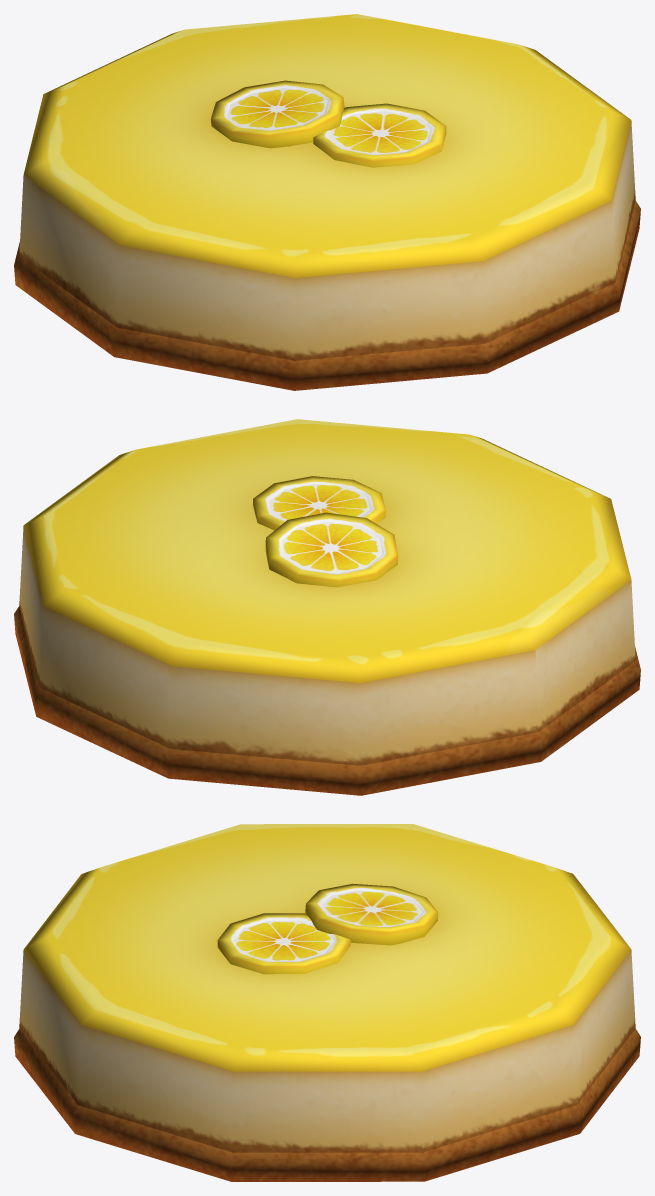
The model's file is Lemon_Cheesecake_Whole.fbx.
The picture shows the model from 3 angles, top to bottom: view 1: azimuth 30°, elevation 25°; view 2: azimuth 150°, elevation 25°; view 3: azimuth 270°, elevation 25°; orthographic projection. The views are drawn at different scales.
Parts seen in each view (by area): view 1: Lemon_Cheesecake_Whole; view 2: Lemon_Cheesecake_Whole; view 3: Lemon_Cheesecake_Whole.
Boxes of the visible parts, box(x1,y1,x2,y2) form: Lemon_Cheesecake_Whole: box(14, 14, 640, 390); Lemon_Cheesecake_Whole: box(14, 419, 640, 795); Lemon_Cheesecake_Whole: box(14, 824, 640, 1181).
Size of the model in its own units: 80 by 20.92 by 84.09.
